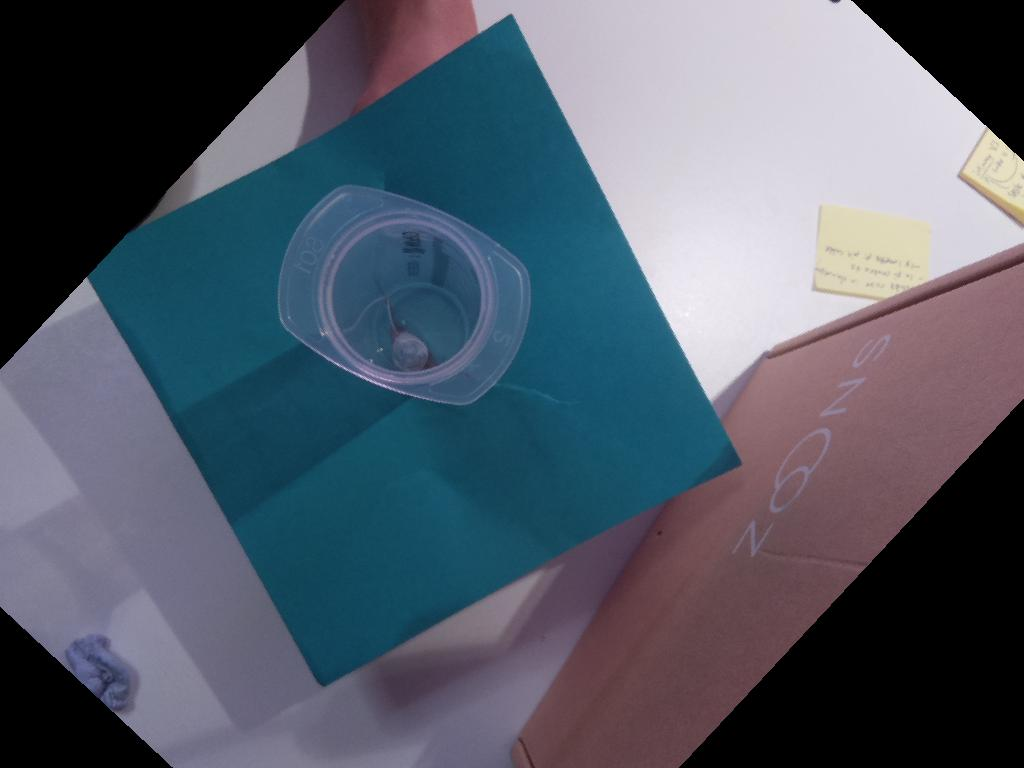clean: (277, 182, 531, 408)
